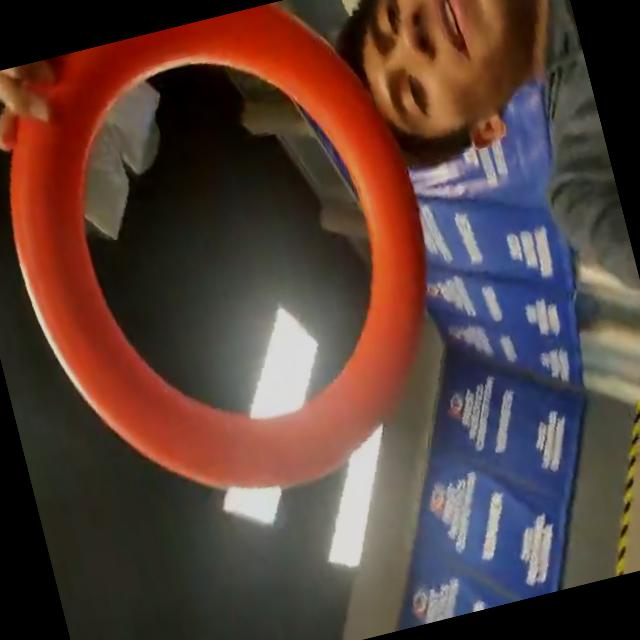note: (0, 0, 488, 543)
